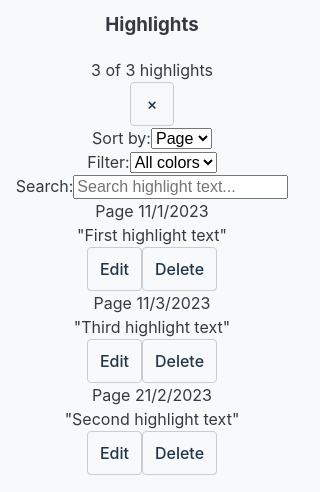
Test: HighlightList › searches highlights by text content
The width and height of the screenshot is (320, 492).
Type "Second" into the field with placeholder "Search highlight text..." at (181, 187), box [73,175,288,199]
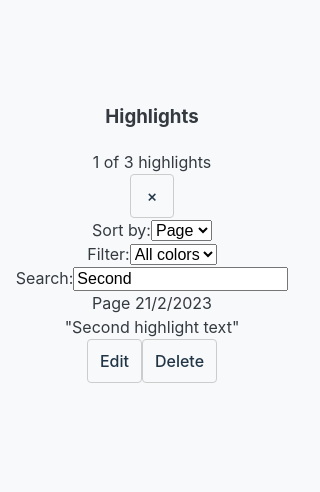
Expected: the text "\"Second highlight text\"" is shown, [65,317,239,337]
Result: the text "1 of 3 highlights" is shown at [93,152,211,172]
Result: the text "\"First highlight text\"" is gone
